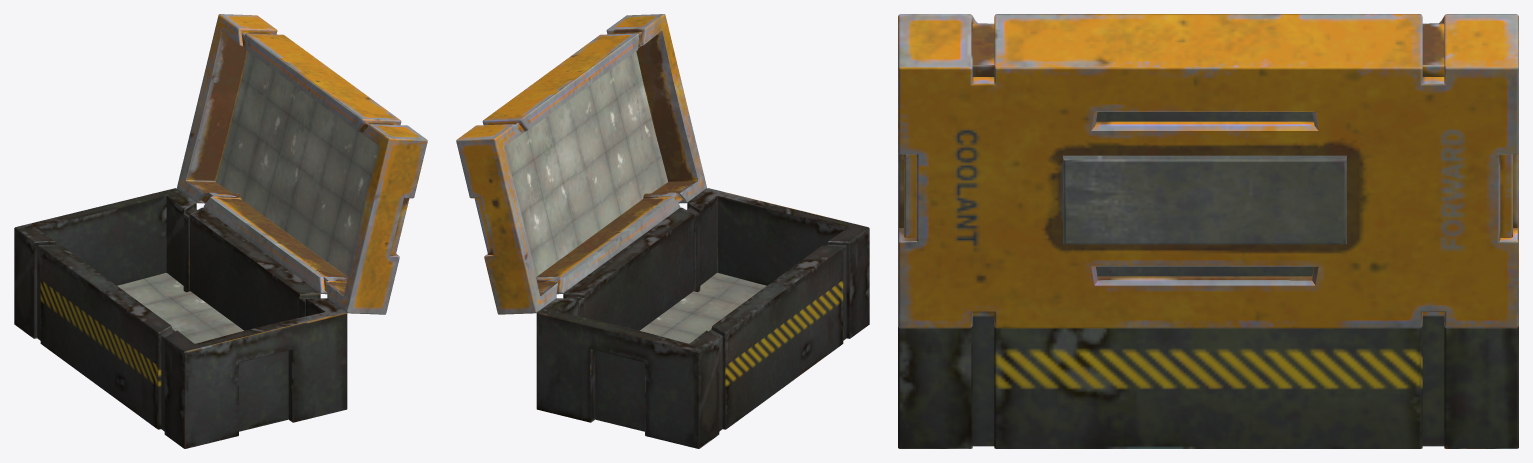
The model's file is SM_Crates_LP_polySurface44.fbx.
The picture shows the model from 3 angles, left to right: view 1: azimuth 30°, elevation 25°; view 2: azimuth 150°, elevation 25°; view 3: azimuth 270°, elevation 25°; orthographic projection. The views are drawn at different scales.
Parts seen in each view (by area): view 1: SM_Crates_LP_polySurface44_LOD0; view 2: SM_Crates_LP_polySurface44_LOD0; view 3: SM_Crates_LP_polySurface44_LOD0.
Boxes of the visible parts, bbox=[...] form: SM_Crates_LP_polySurface44_LOD0: bbox=[14, 14, 427, 448]; SM_Crates_LP_polySurface44_LOD0: bbox=[456, 14, 869, 448]; SM_Crates_LP_polySurface44_LOD0: bbox=[898, 14, 1518, 448].
Size of the model in its own units: 89.67 by 109 by 91.53.
1 material, 1 textured.
